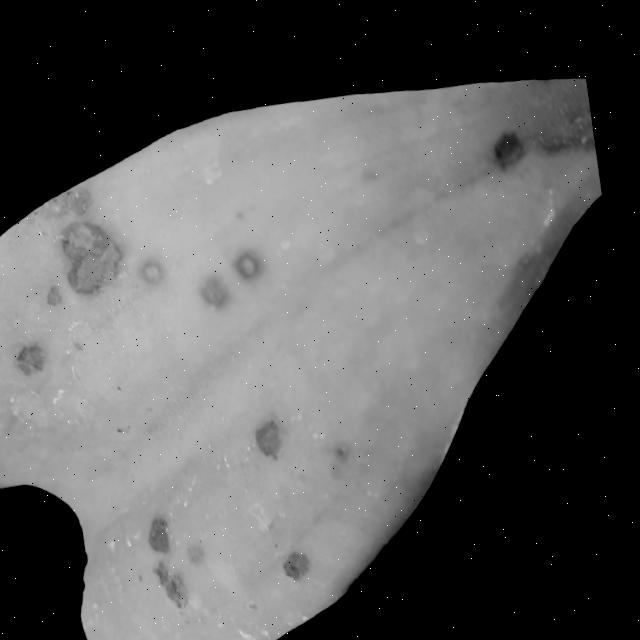mite: (0, 155, 391, 640), (0, 186, 283, 381), (194, 238, 274, 310), (9, 329, 62, 386), (142, 503, 191, 560), (489, 121, 530, 167), (200, 268, 236, 308), (17, 339, 54, 376), (233, 242, 268, 279), (151, 512, 181, 552), (66, 183, 97, 215), (139, 254, 169, 283), (46, 281, 68, 306), (338, 437, 355, 454), (253, 594, 268, 608)
sunburn: (254, 410, 295, 460)
